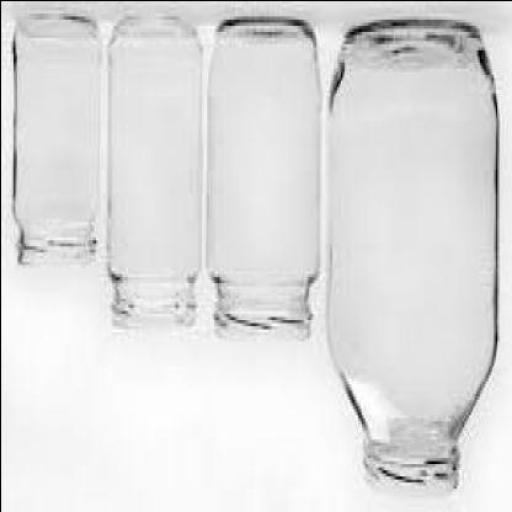glass: (324, 24, 496, 494), (202, 18, 319, 340), (106, 18, 200, 328), (10, 16, 96, 270)
